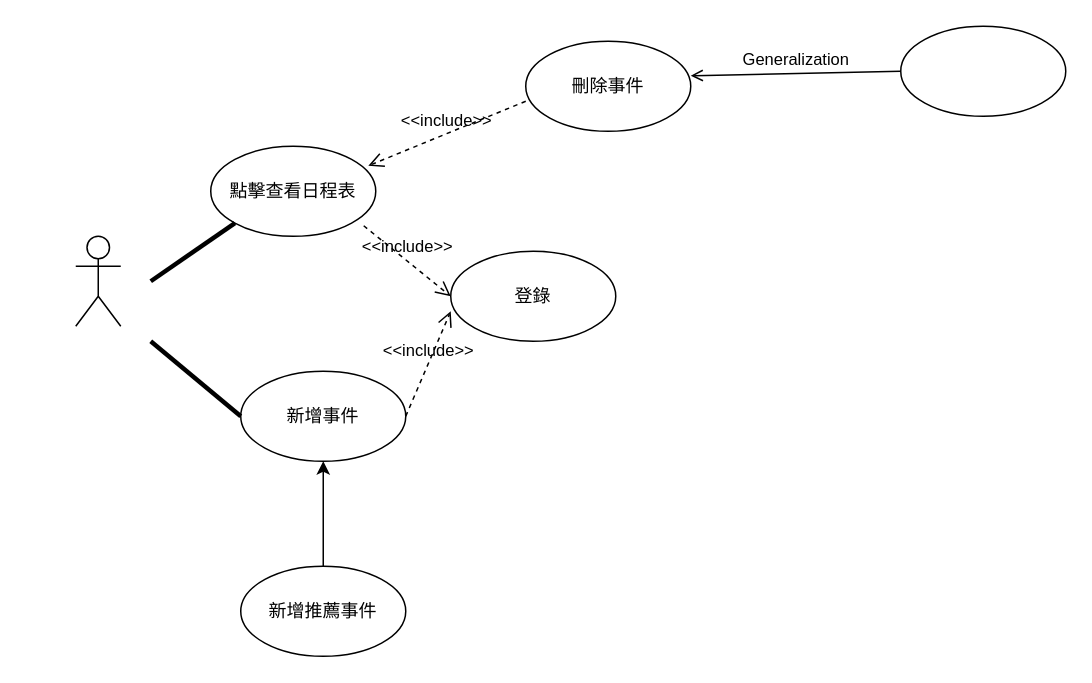
Image size: 1092x683. Some labels were removed from this diagram. The centre of each missing label's shape, as x and y in pixels:
"刪除完成事件" belongs at (982,70).
"繁忙疏於管理的人" belongs at (97,280).
